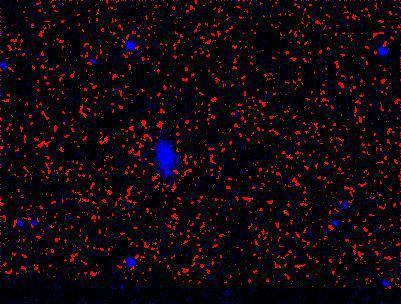star: (155, 159, 185, 189)
